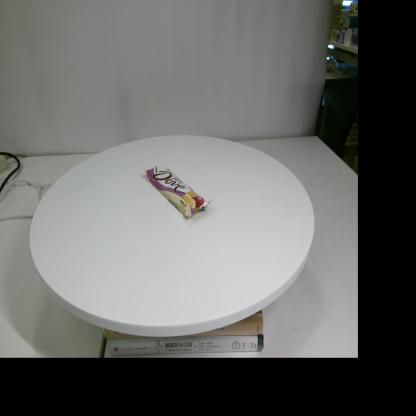Chocolate: (145, 162, 213, 218)
